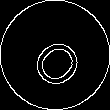O_NE: (22, 22, 88, 88)
